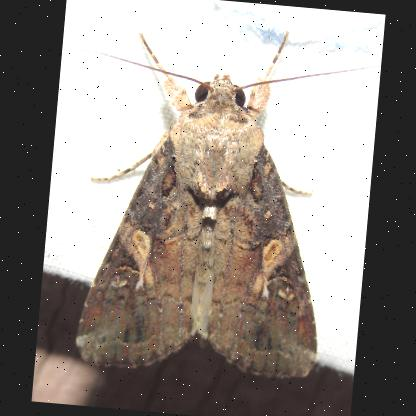Fall Armyworm Moth: (68, 9, 352, 391)
